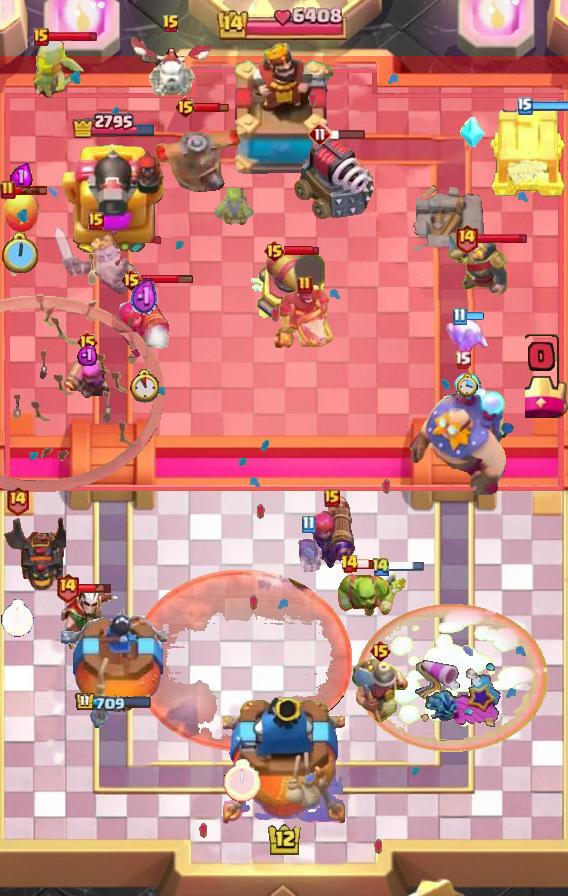archer-evolution: (0, 513, 66, 593)
bandit: (349, 655, 411, 729)
bomb: (488, 104, 568, 198)
clock: (217, 6, 351, 40)
dark-prince: (151, 110, 247, 200)
electro-spirit: (130, 277, 157, 318), (10, 162, 33, 191), (77, 342, 97, 365)
elixir: (2, 232, 40, 276), (223, 759, 260, 802), (1, 599, 35, 637), (127, 369, 161, 403), (457, 371, 479, 396)
emote: (477, 231, 528, 245), (47, 30, 98, 43), (142, 274, 195, 286), (390, 559, 427, 572), (330, 128, 366, 140), (284, 245, 320, 257), (78, 582, 114, 594), (194, 101, 229, 113), (12, 185, 48, 196), (532, 101, 568, 111), (356, 558, 376, 570), (464, 311, 484, 322)
firecracker: (449, 236, 509, 296)
flying-machine: (331, 567, 393, 621)
freeze: (271, 283, 339, 355)
goblin: (292, 539, 323, 577)
golem: (293, 132, 377, 222)
heal-spirit: (374, 567, 410, 601)
hog: (1, 190, 41, 234)
king-tower: (228, 41, 340, 181), (223, 698, 345, 826)
little-prince: (408, 371, 516, 497)
mega-minion: (115, 280, 173, 360), (308, 495, 356, 571)
mini-pekka: (125, 35, 217, 97)
mirror: (443, 317, 493, 355)
mortar-evolution: (52, 226, 140, 306)
pad_2: (460, 117, 486, 149)
phoenix-big: (355, 602, 549, 753)
phoenix-egg: (130, 569, 353, 753)
poison: (20, 35, 88, 103)
queen-tower: (61, 603, 167, 731)
royal-recruit: (256, 250, 328, 324)
selected: (71, 111, 157, 138), (75, 691, 153, 713)
skeleton-barrel: (0, 249, 164, 493)
skeleton-king: (43, 585, 121, 649)
text: (5, 485, 30, 516), (454, 223, 479, 253), (55, 573, 80, 603), (308, 122, 332, 146), (175, 95, 198, 119), (262, 239, 285, 263), (120, 268, 143, 292), (77, 330, 100, 354), (368, 639, 391, 663), (371, 555, 391, 576), (340, 554, 359, 574), (162, 14, 180, 34), (453, 351, 470, 370), (0, 180, 16, 200), (297, 275, 313, 295), (33, 28, 49, 46), (517, 97, 533, 115), (88, 212, 104, 230), (324, 489, 340, 507), (300, 514, 315, 533), (453, 307, 467, 326)
tombstone: (63, 348, 111, 402)
tower-bar: (60, 138, 168, 256)
zap: (214, 188, 258, 230)
